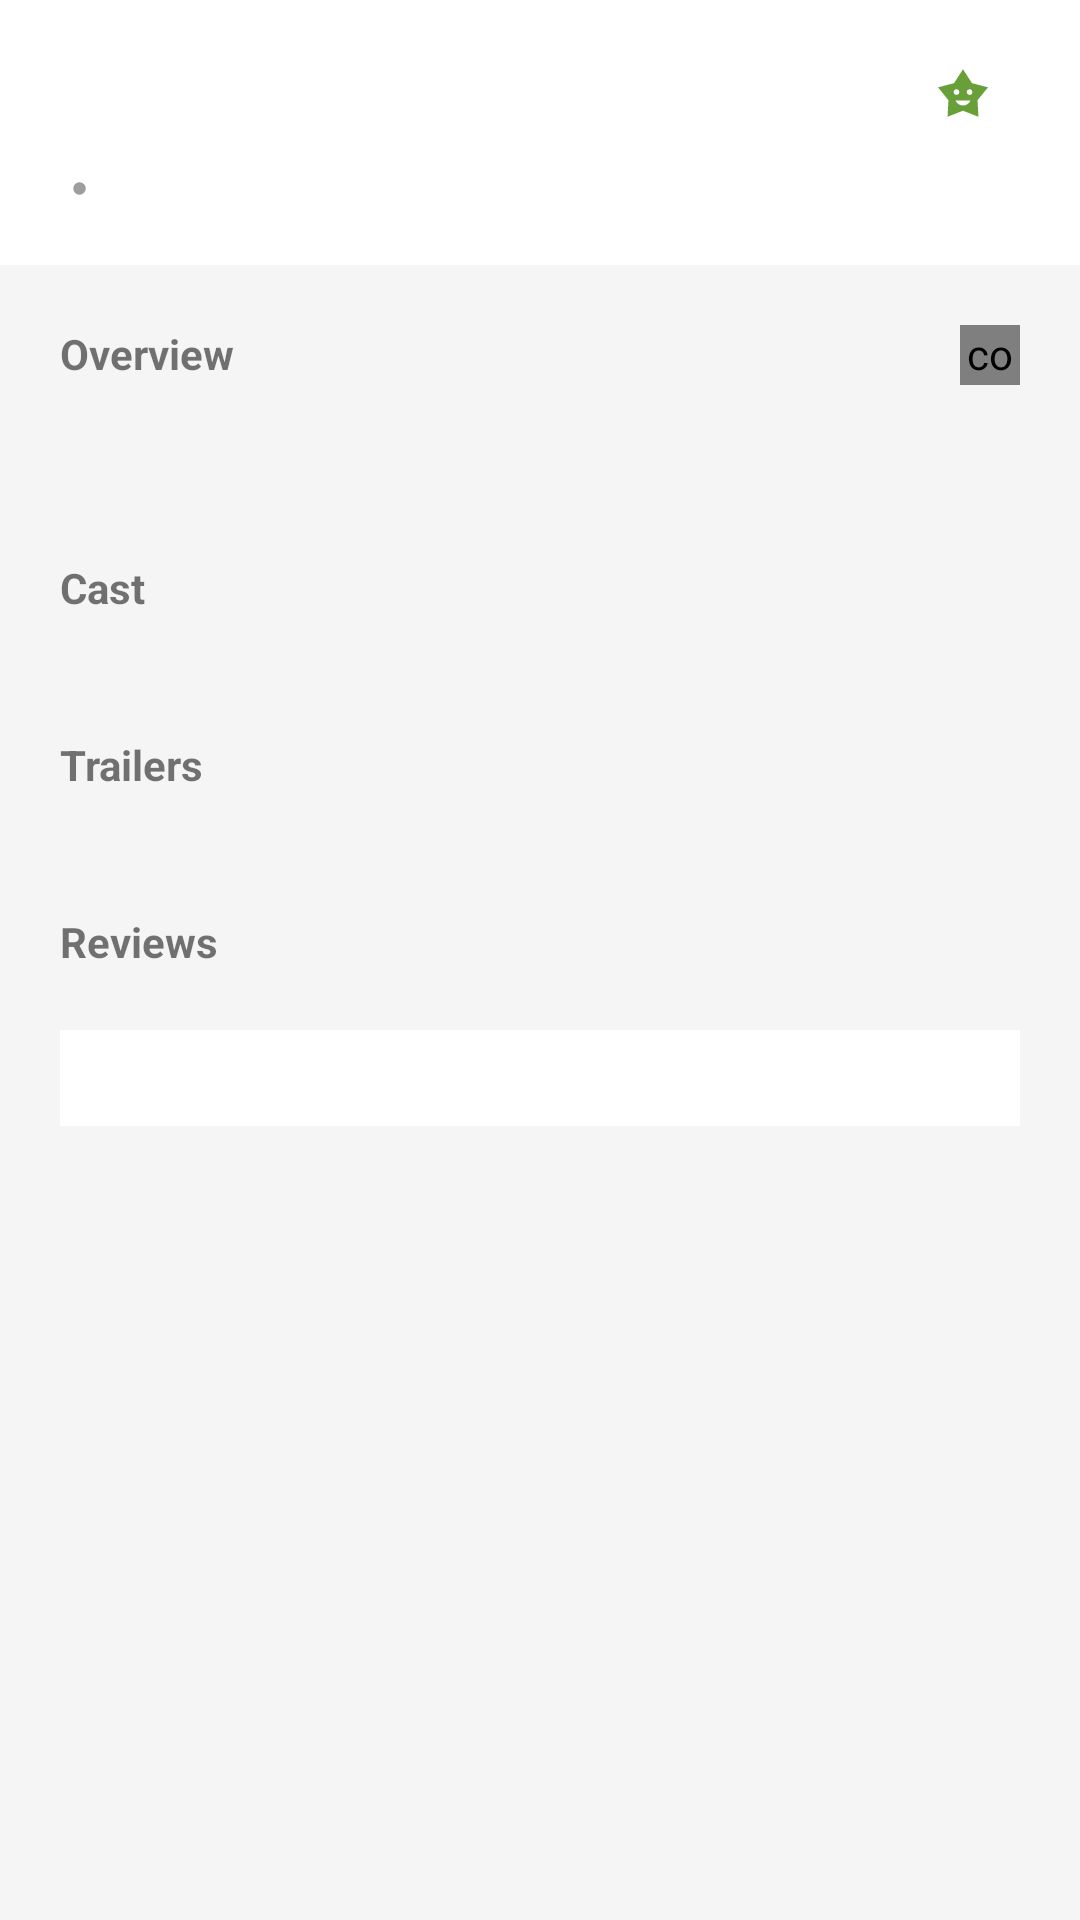

Screen size 1080×1920. Icon name, then its center in pixels as [x,y]:
vote count icon: [963,93]
